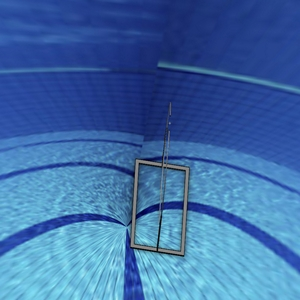circle: (129, 100, 190, 258)
